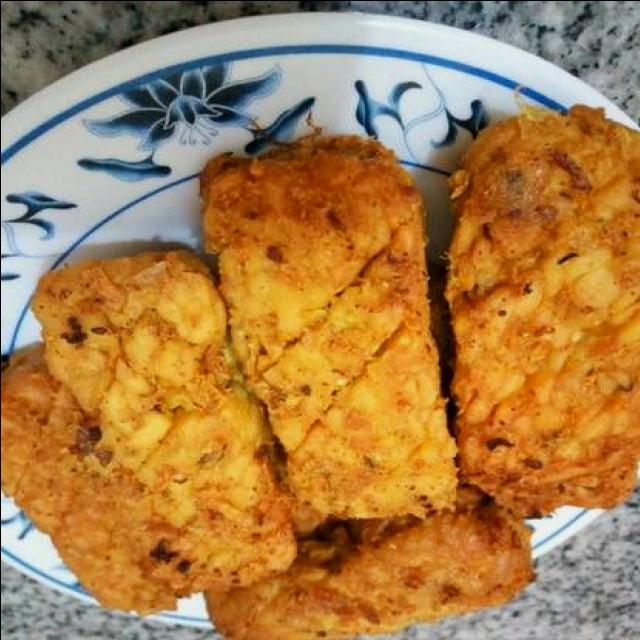tempe goreng: (197, 129, 484, 537), (0, 245, 302, 614), (443, 101, 640, 515), (199, 478, 535, 640)
